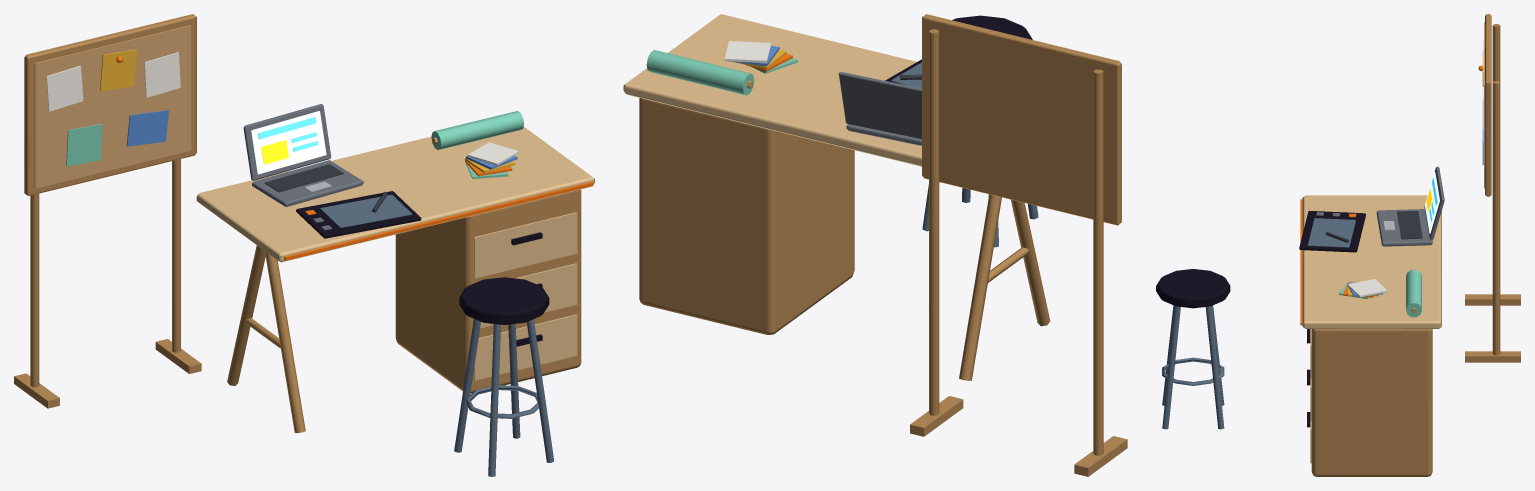
Rendered from station_intake_1.glb.
The picture shows the model from 3 angles, left to right: view 1: azimuth 30°, elevation 25°; view 2: azimuth 150°, elevation 25°; view 3: azimuth 270°, elevation 25°; orthographic projection. The views are drawn at different scales.
Visible parts, largest first — view 1: station_intake_1; view 2: station_intake_1; view 3: station_intake_1.
Part boxes in pixels (<box>): station_intake_1: <box>14,14,594,476</box>; station_intake_1: <box>623,14,1127,476</box>; station_intake_1: <box>1156,14,1520,476</box>.
Bounding box in the file's own units: 1.88 × 1.35 × 1.57.
